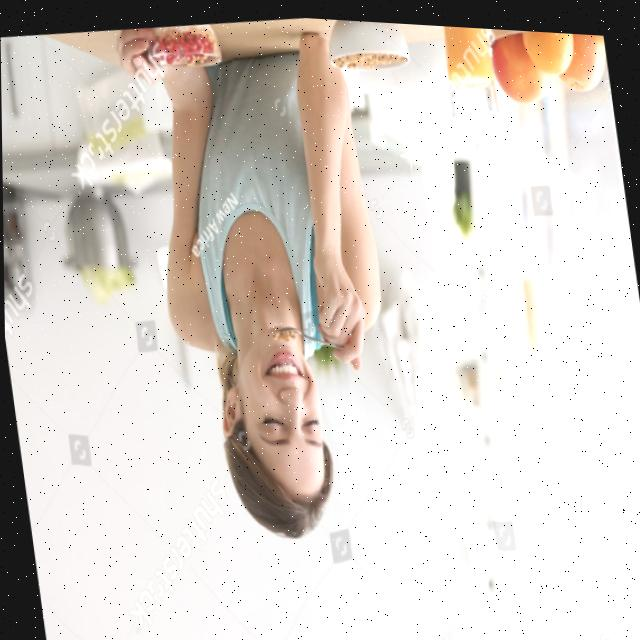eating-person: (113, 5, 640, 579)
